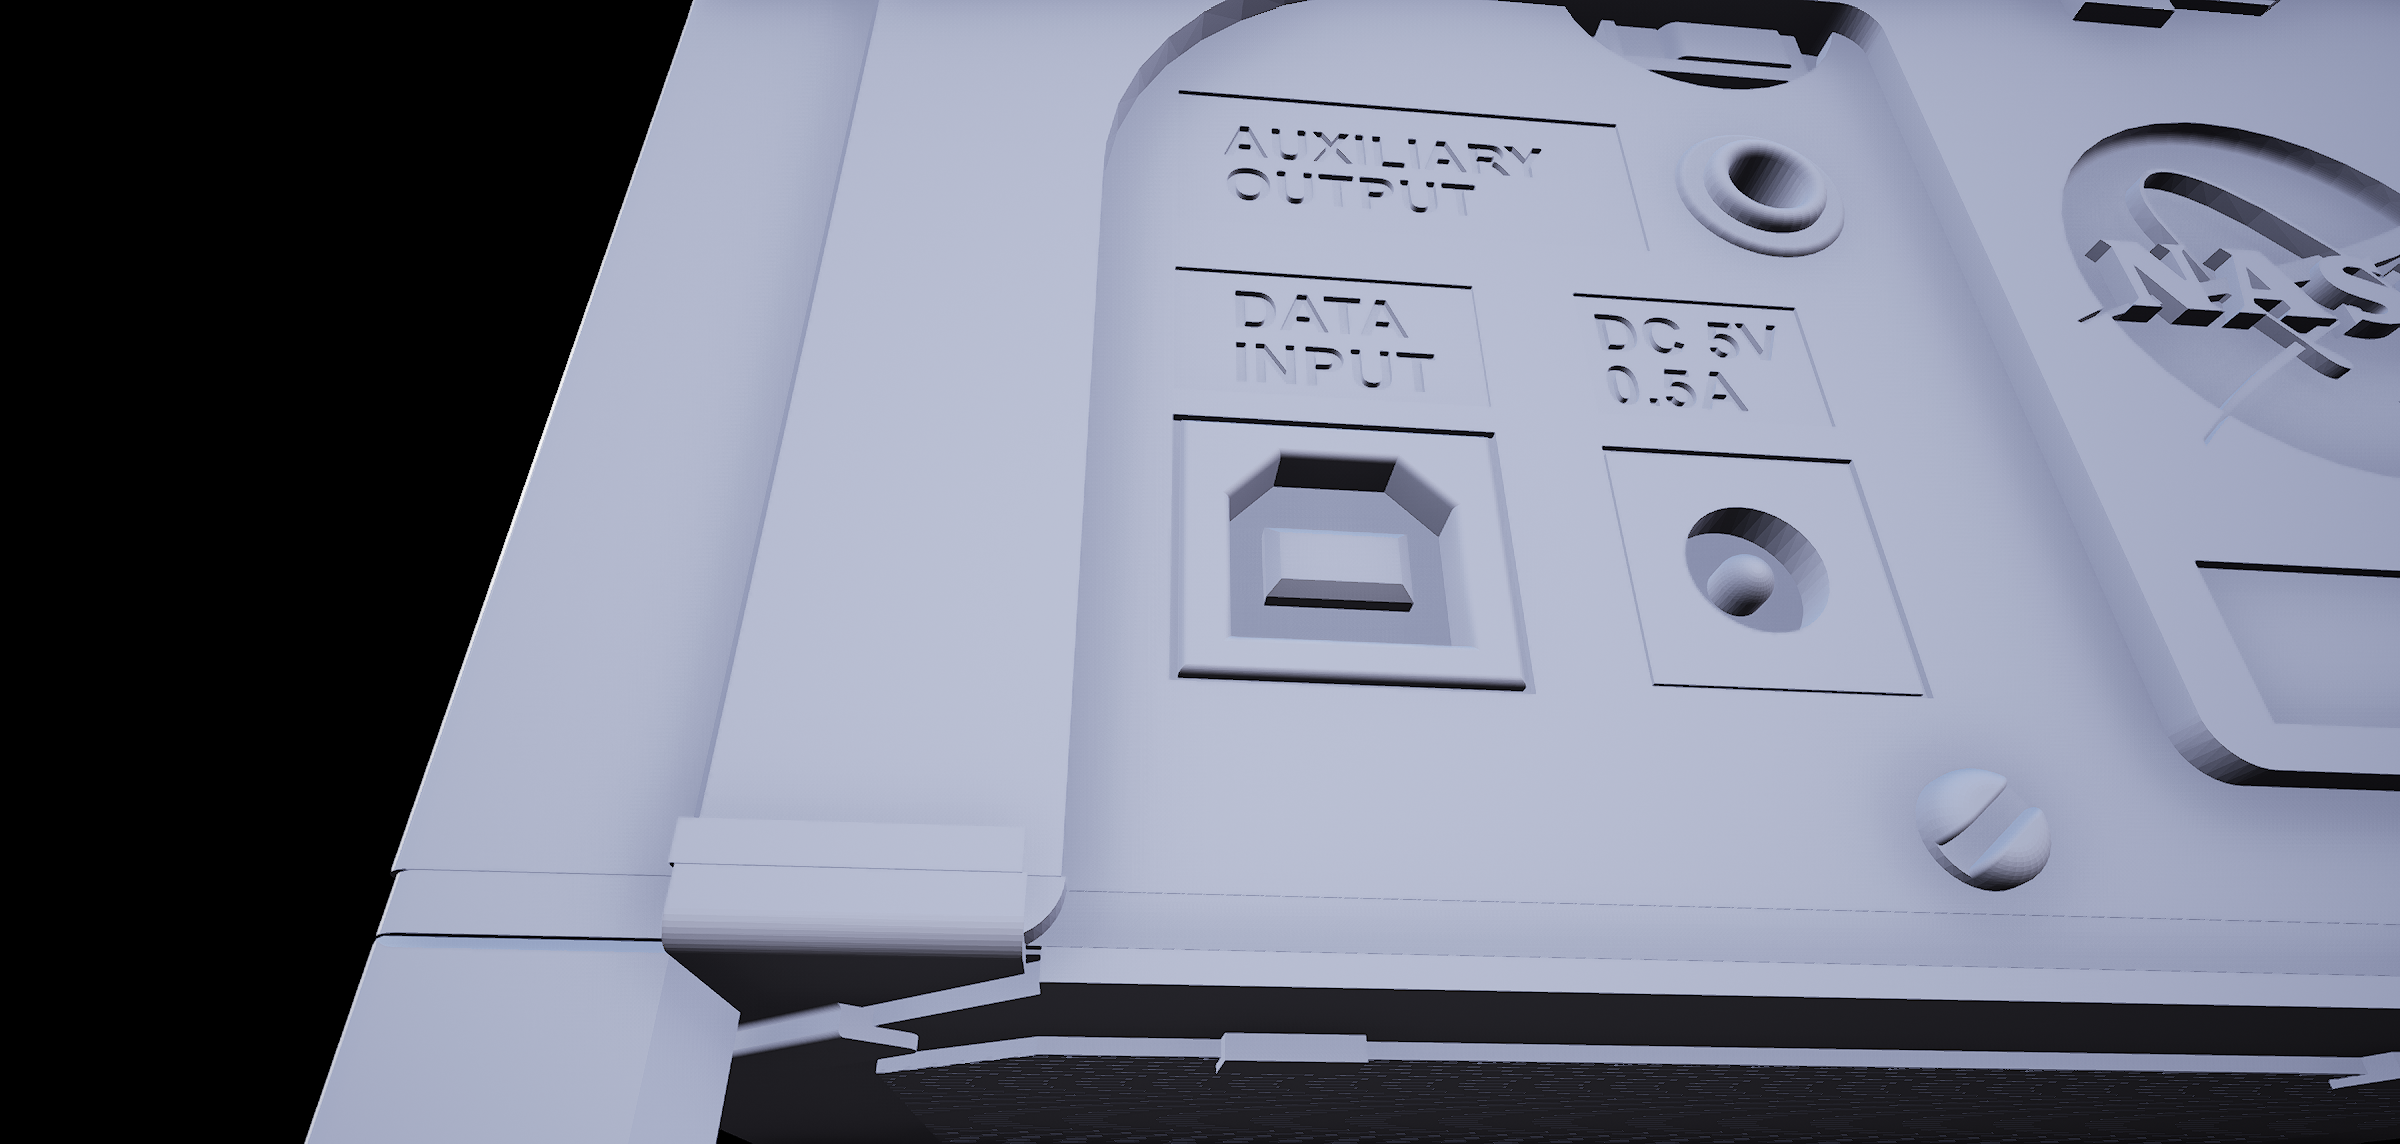aux: (1665, 116, 1860, 271)
dc: (1656, 498, 1864, 648)
usb: (1217, 435, 1489, 672)
